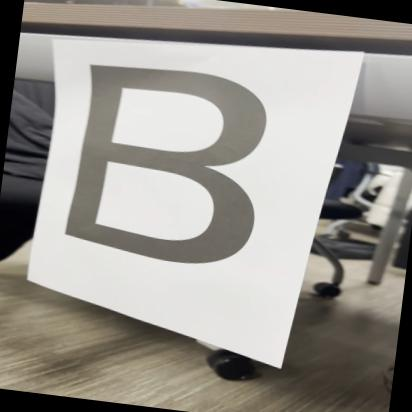seat: (50, 53, 291, 285)
